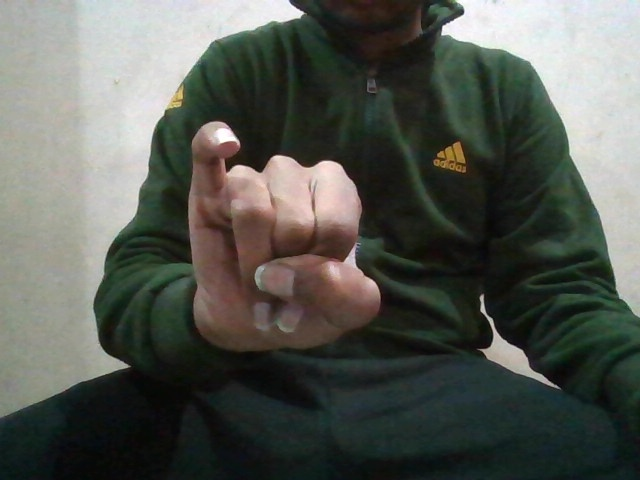J: (173, 117, 385, 359)
